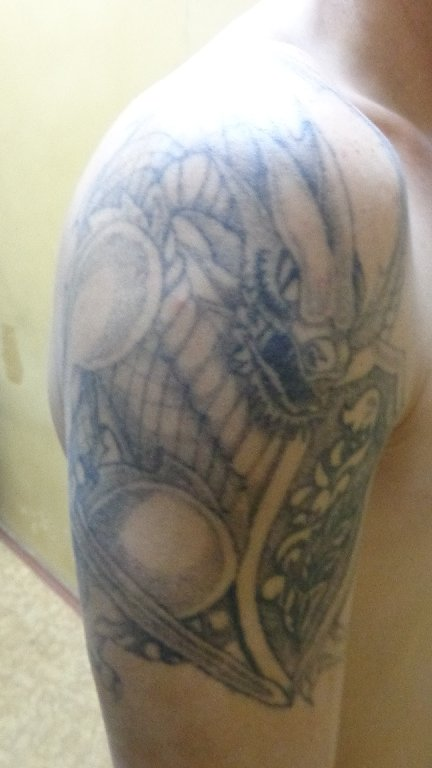tatu7_zmeya: (50, 121, 370, 722)
